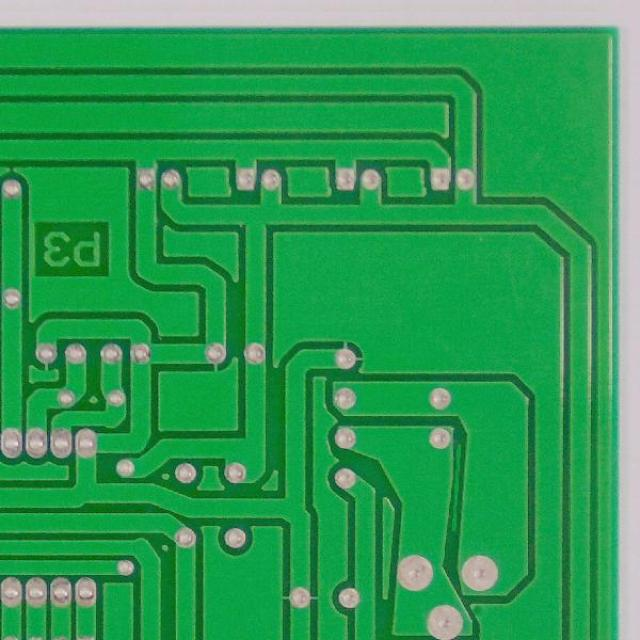Spurious_Cooper: (450, 439, 462, 536)
